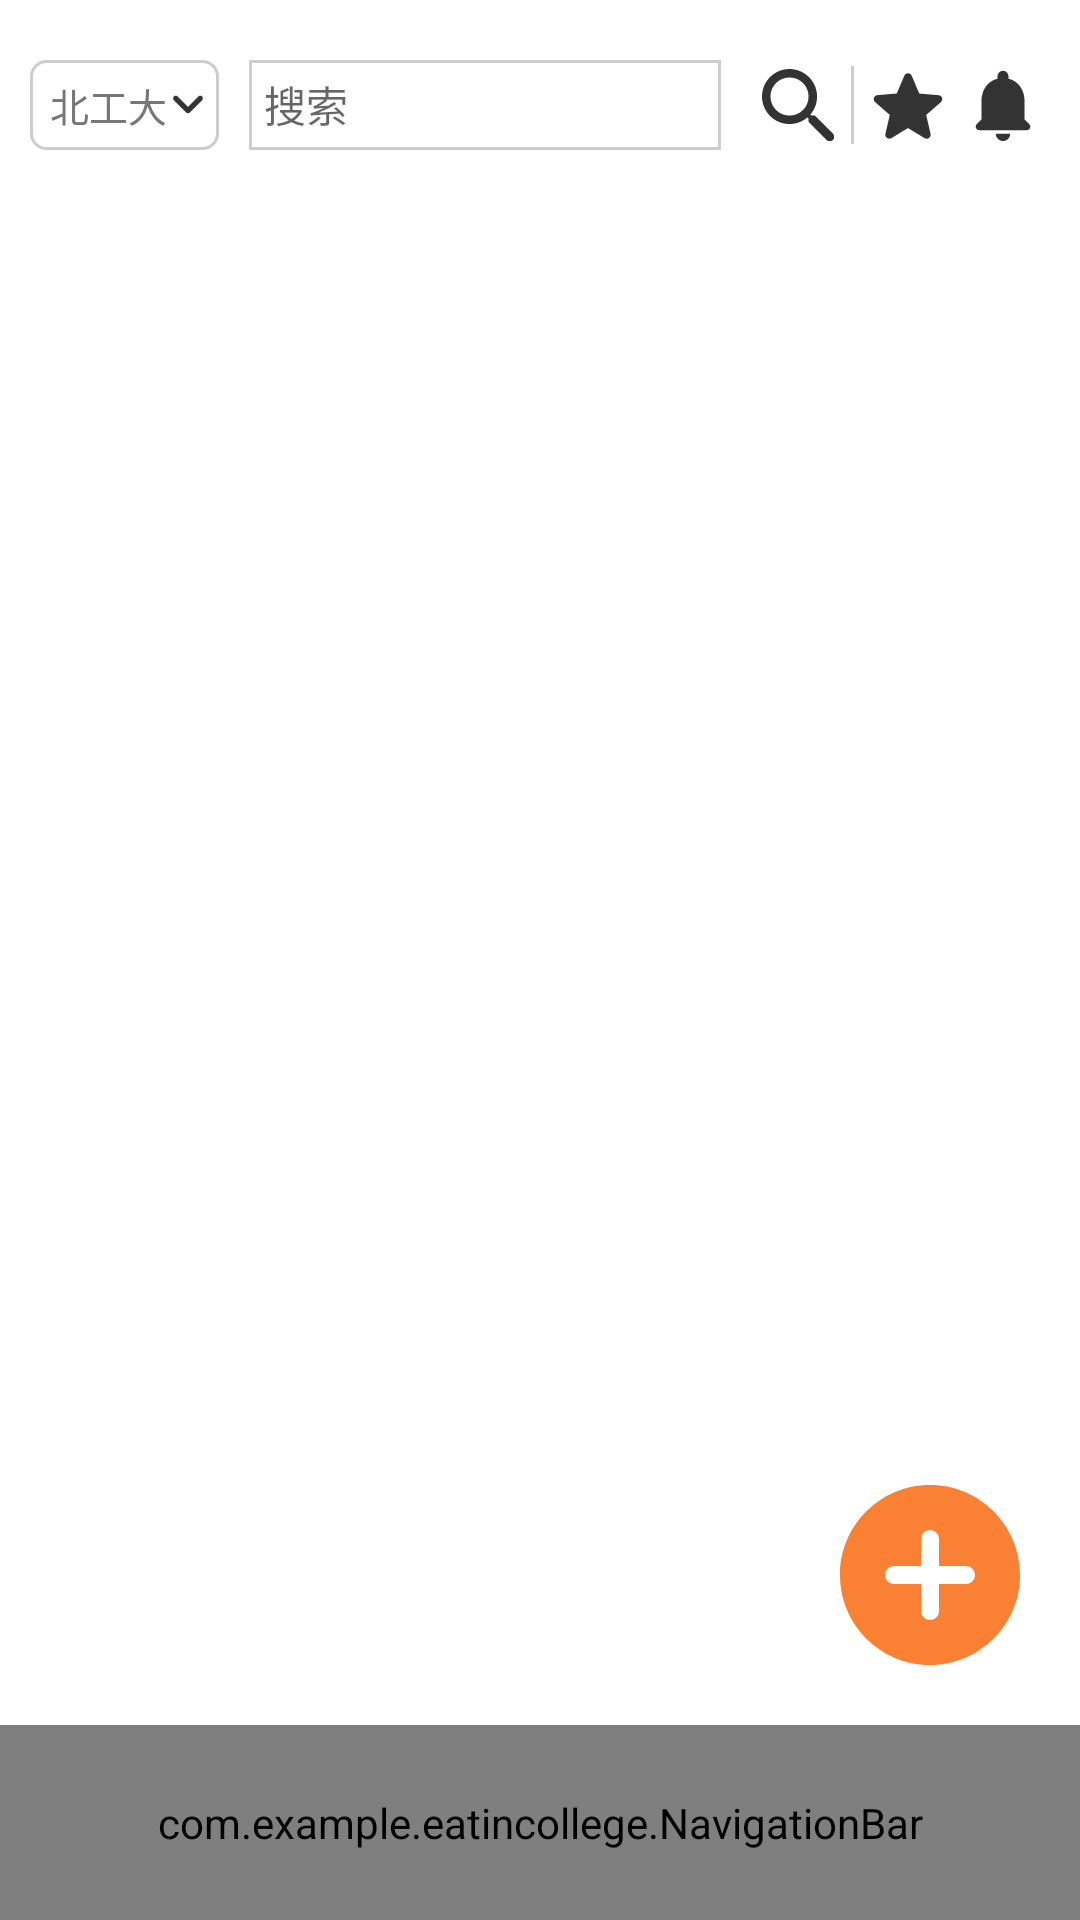

Point at icon controls on the screen. Image size 1080 x 1920, points as [x,y].
drop down: [188,104]
notification: [1003,105]
search: [798,105]
star: [908,106]
